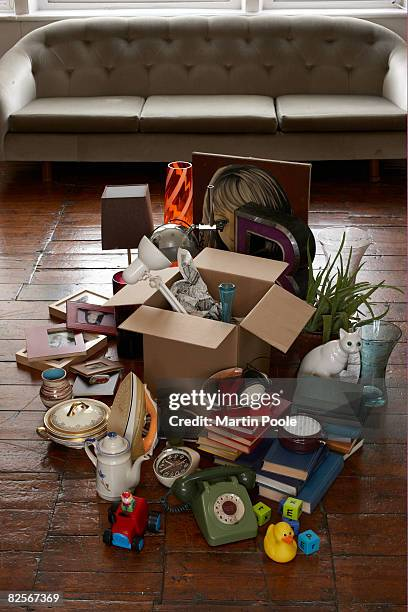not a gesture sign: (46, 20, 395, 158)
